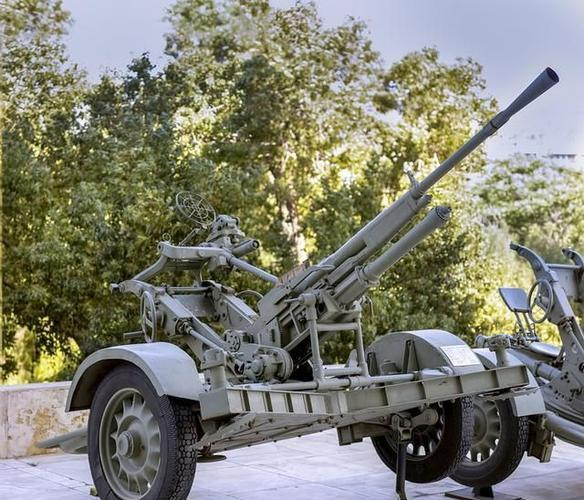MIL_SPG: (66, 71, 557, 499)
